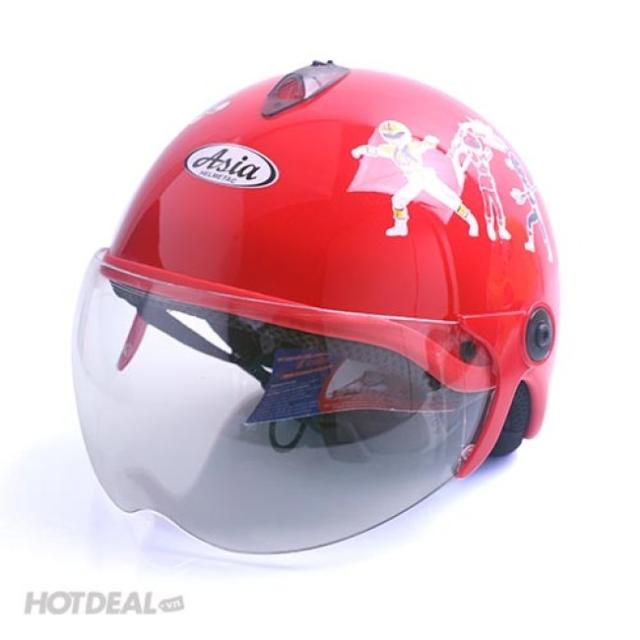Helmet: (68, 56, 565, 556)
